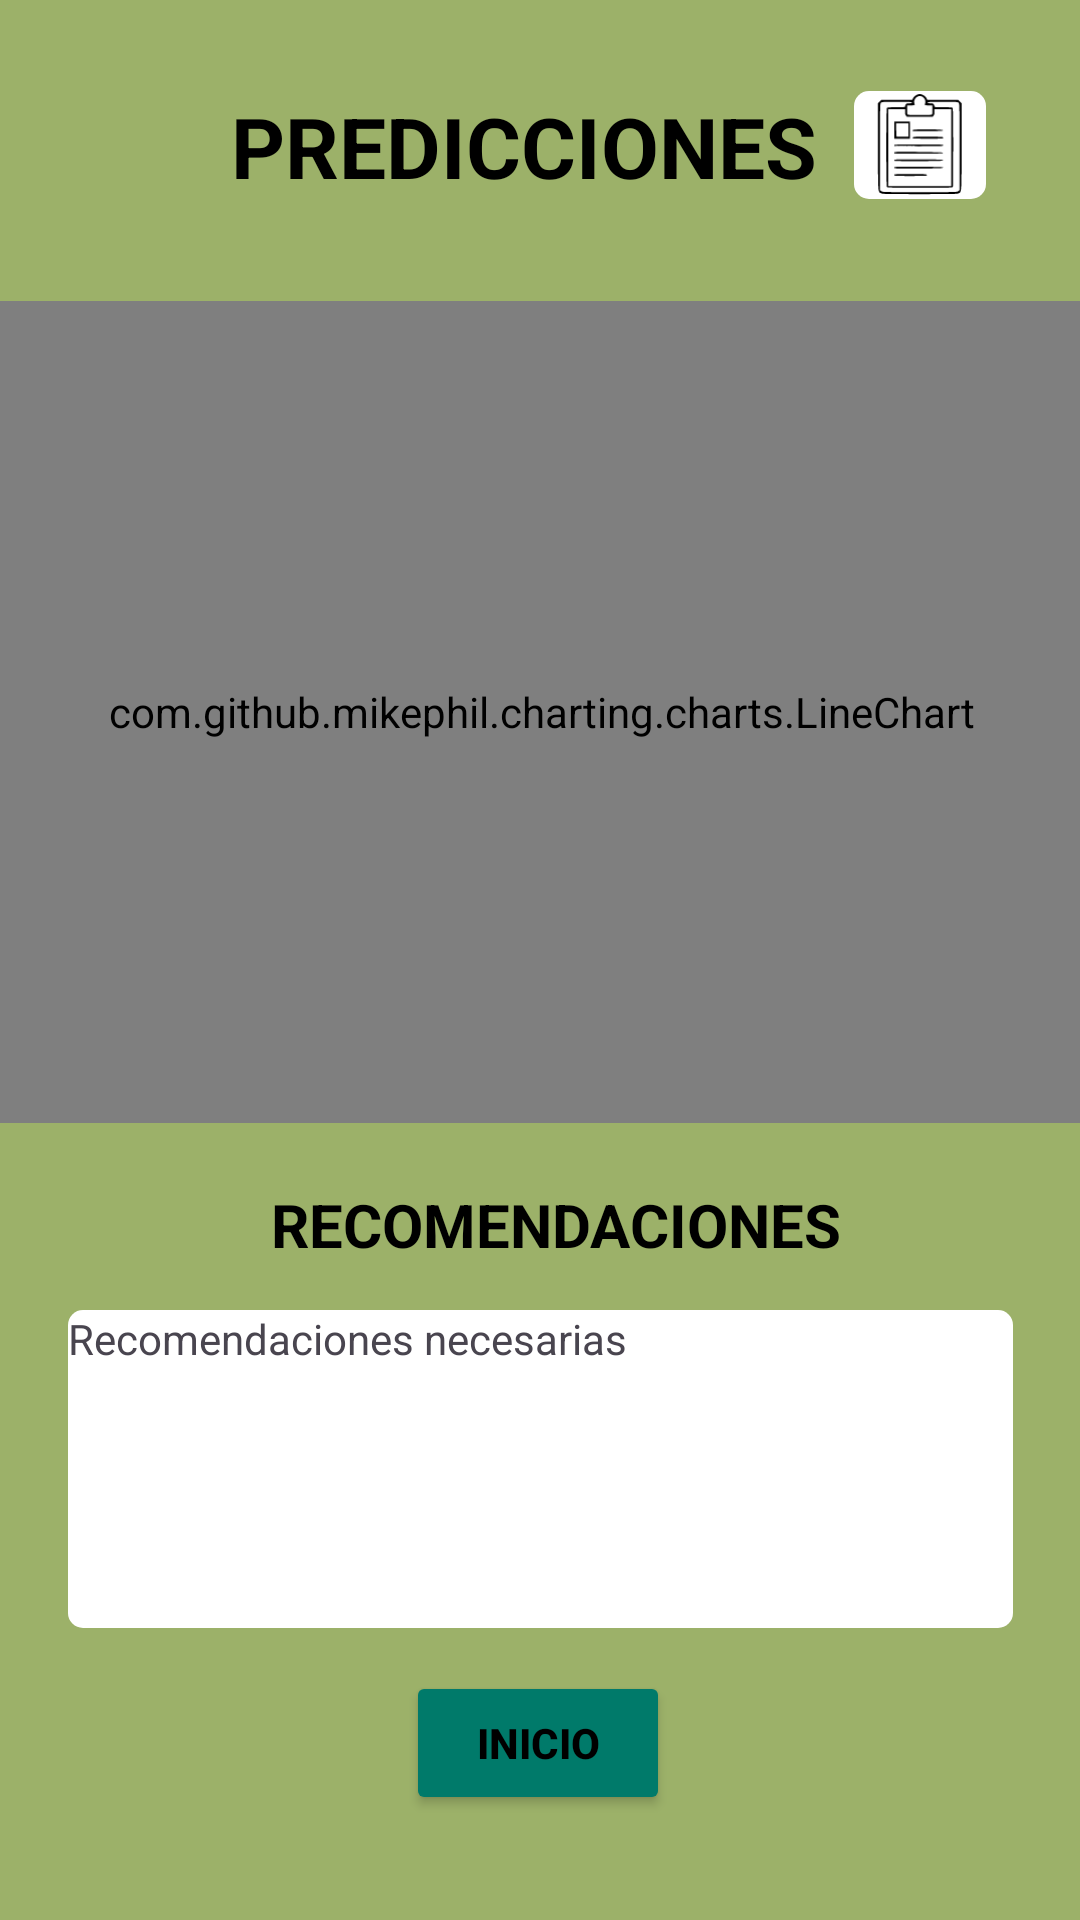

Icons on this 1080*1920 Android screen, each with the point to tap as (x,y):
formulario: (920,145)
